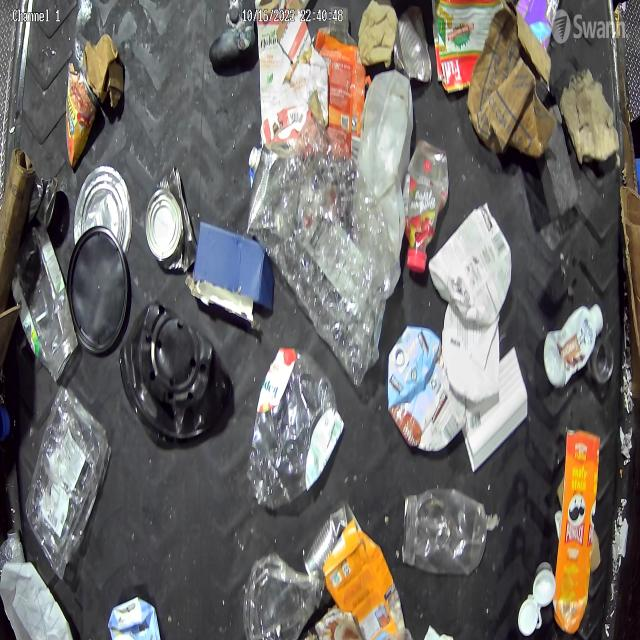can: (303, 501, 362, 604), (145, 163, 199, 274), (247, 140, 296, 240), (392, 8, 432, 87)
milk_jug: (358, 69, 413, 238)
non_white_jug: (323, 518, 406, 640), (388, 324, 467, 452), (107, 594, 161, 640)
plastic_bottle: (404, 140, 449, 270)
